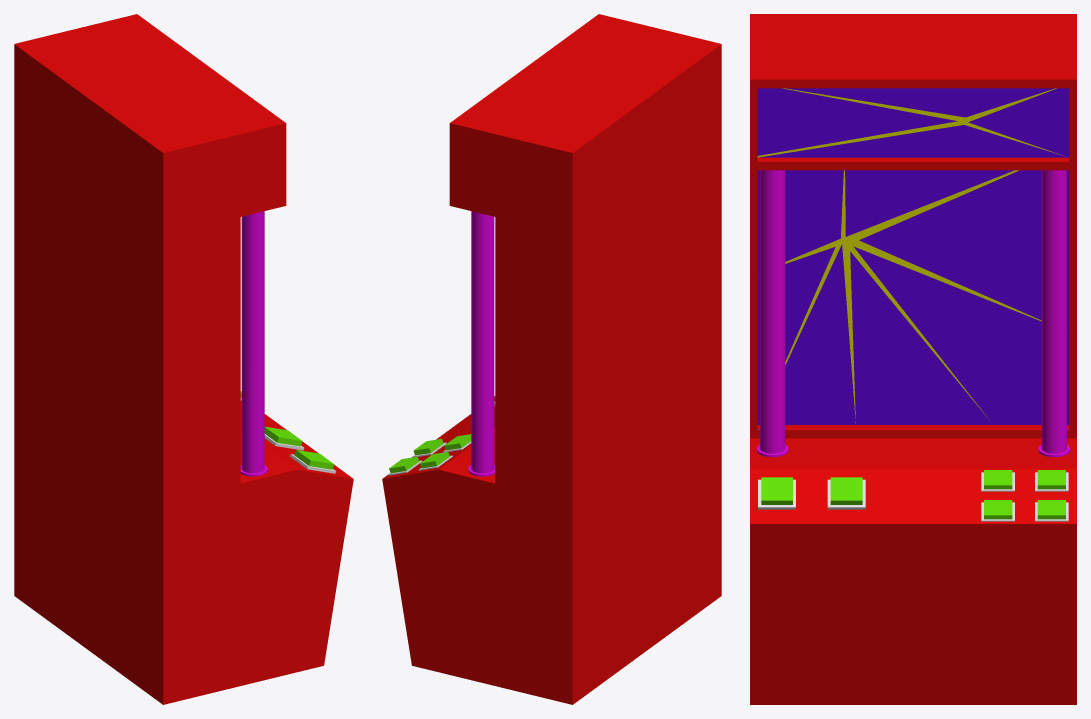
File: Slot Machine 2 Low Poly Damaged Colour ID.fbx
The picture shows the model from 3 angles, left to right: view 1: azimuth 30°, elevation 25°; view 2: azimuth 150°, elevation 25°; view 3: azimuth 270°, elevation 25°; orthographic projection. The views are drawn at different scales.
Parts seen in each view (by area): view 1: Slot_2_low; view 2: Slot_2_low; view 3: Slot_2_low.
Boxes of the visible parts, x1,y1,x2,y2 form: Slot_2_low: (14, 14, 353, 704); Slot_2_low: (382, 14, 721, 704); Slot_2_low: (750, 14, 1076, 704).
Bounding box in the file's own units: 2.43 × 6.73 × 3.3.
